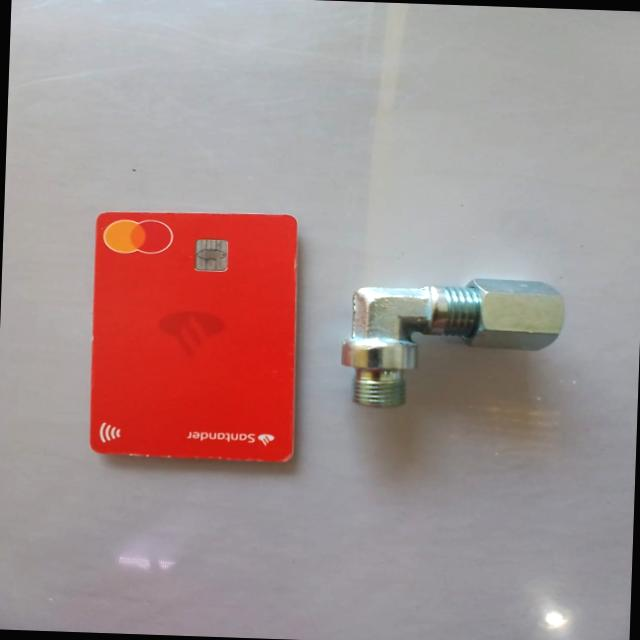cartao: (87, 208, 298, 460)
rosca_externa: (340, 272, 568, 412)
